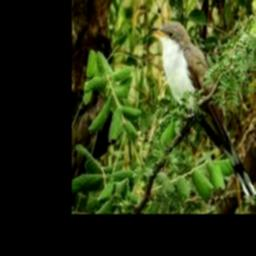Cuckoo: (149, 21, 256, 197)
